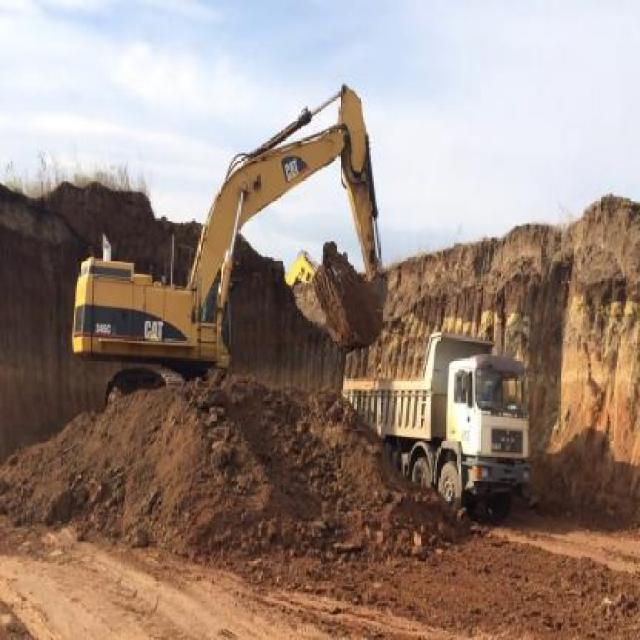dump_truck: (342, 322, 536, 528)
excavator: (68, 77, 386, 441)
